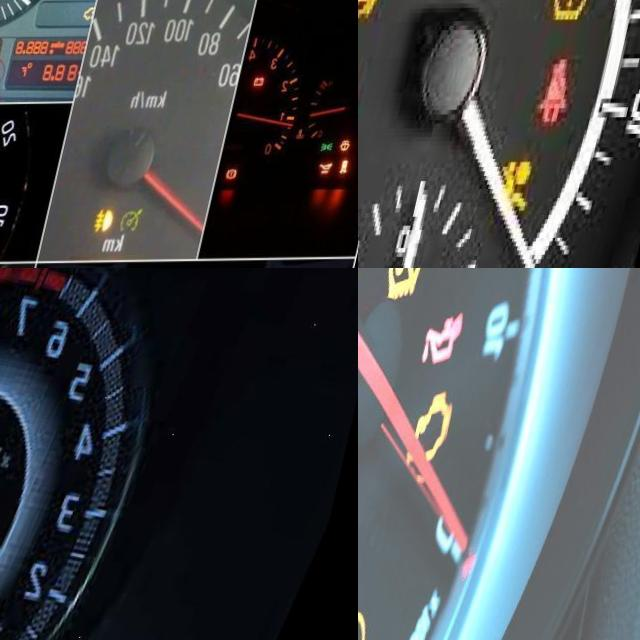Electronic Power Steering: (358, 610, 401, 640)
Seat Belt: (550, 60, 596, 126)
